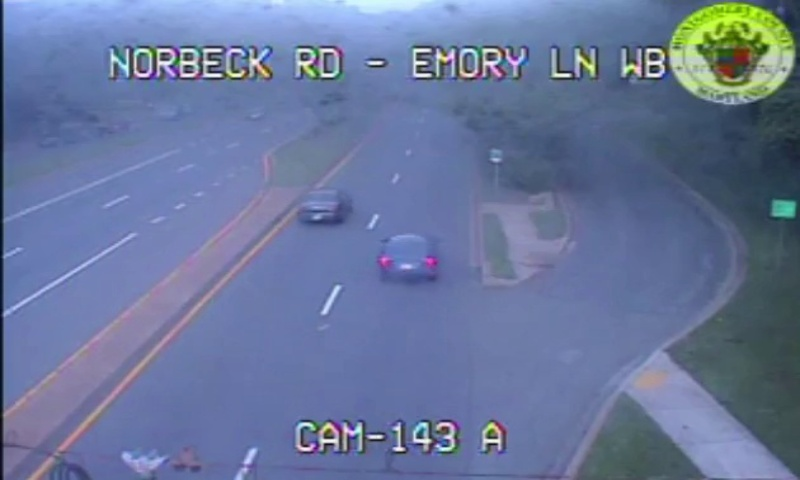car: (381, 233, 436, 279), (298, 190, 350, 222)
